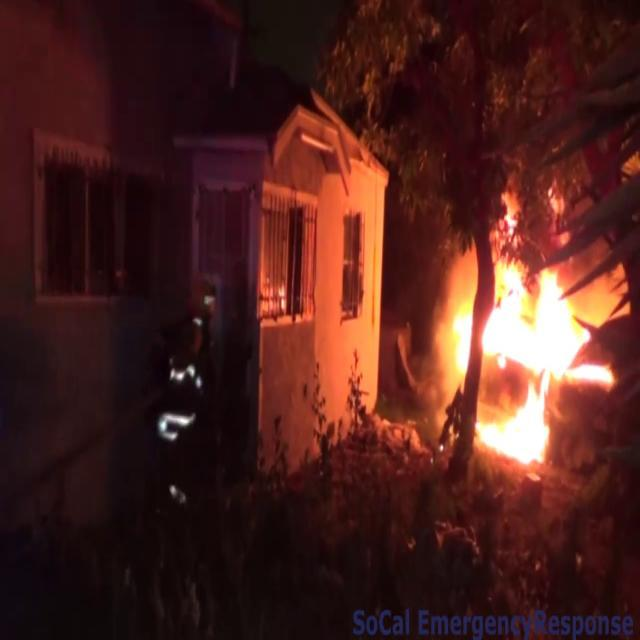Fire: (437, 222, 629, 470)
